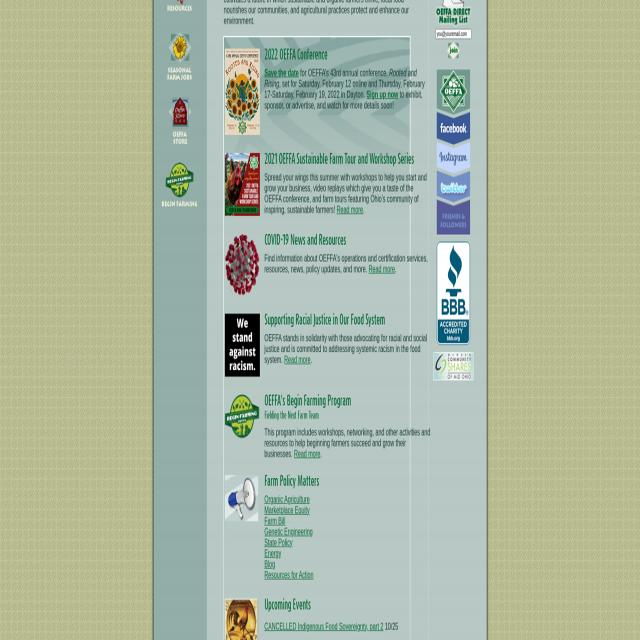button: (436, 70, 470, 234), (436, 242, 470, 345), (224, 49, 260, 135), (224, 153, 260, 216), (224, 233, 260, 296), (224, 314, 260, 376), (159, 94, 201, 146), (159, 158, 201, 210), (159, 31, 201, 82), (224, 475, 258, 521), (225, 395, 259, 438), (224, 598, 257, 640), (433, 352, 473, 380), (434, 0, 472, 28), (159, 0, 201, 22), (446, 39, 460, 62)
field: (435, 29, 471, 39)
